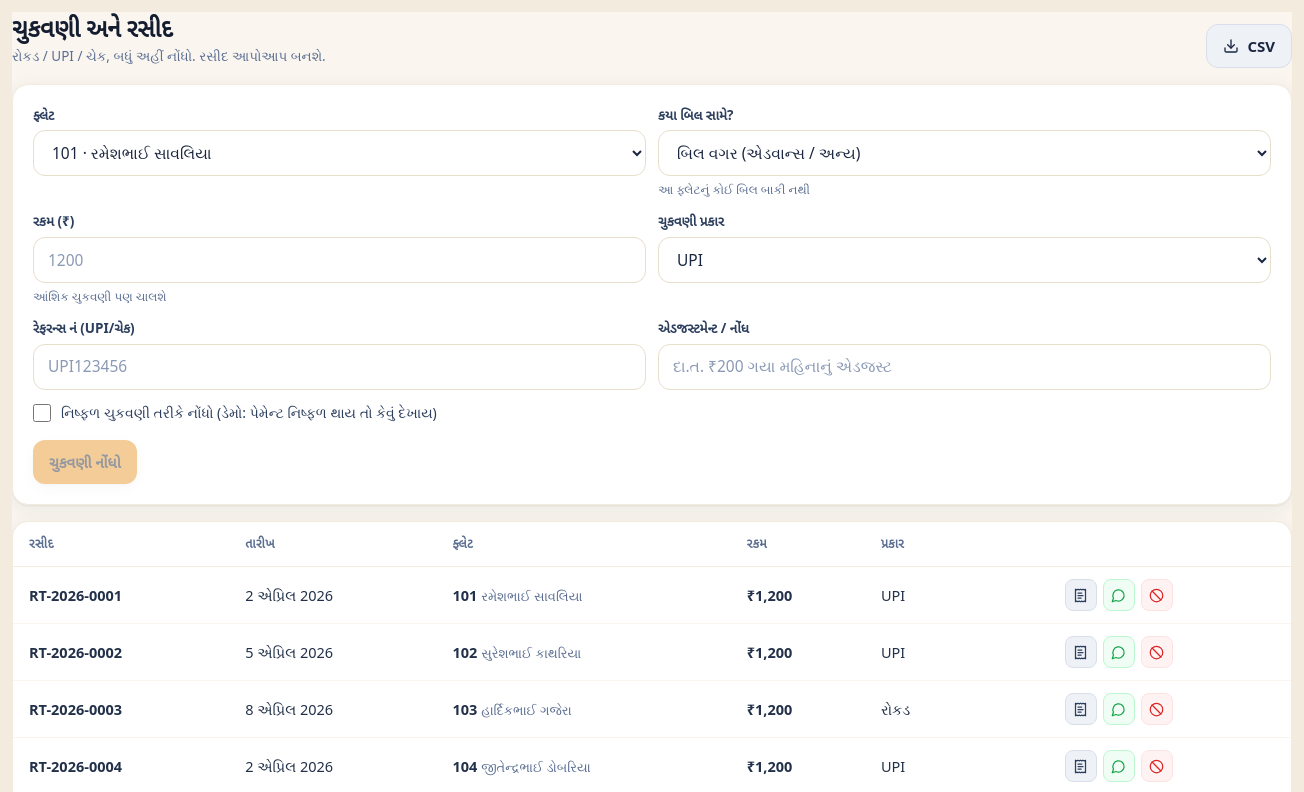
Test: failed-payment wording uses નિષ્ફળ, not the colloquial ફેલ › records a failed payment with the professional term while preserving the exact financial meaning
Step 1. Click the checkbox → point(42, 413), box [33,404,51,422]
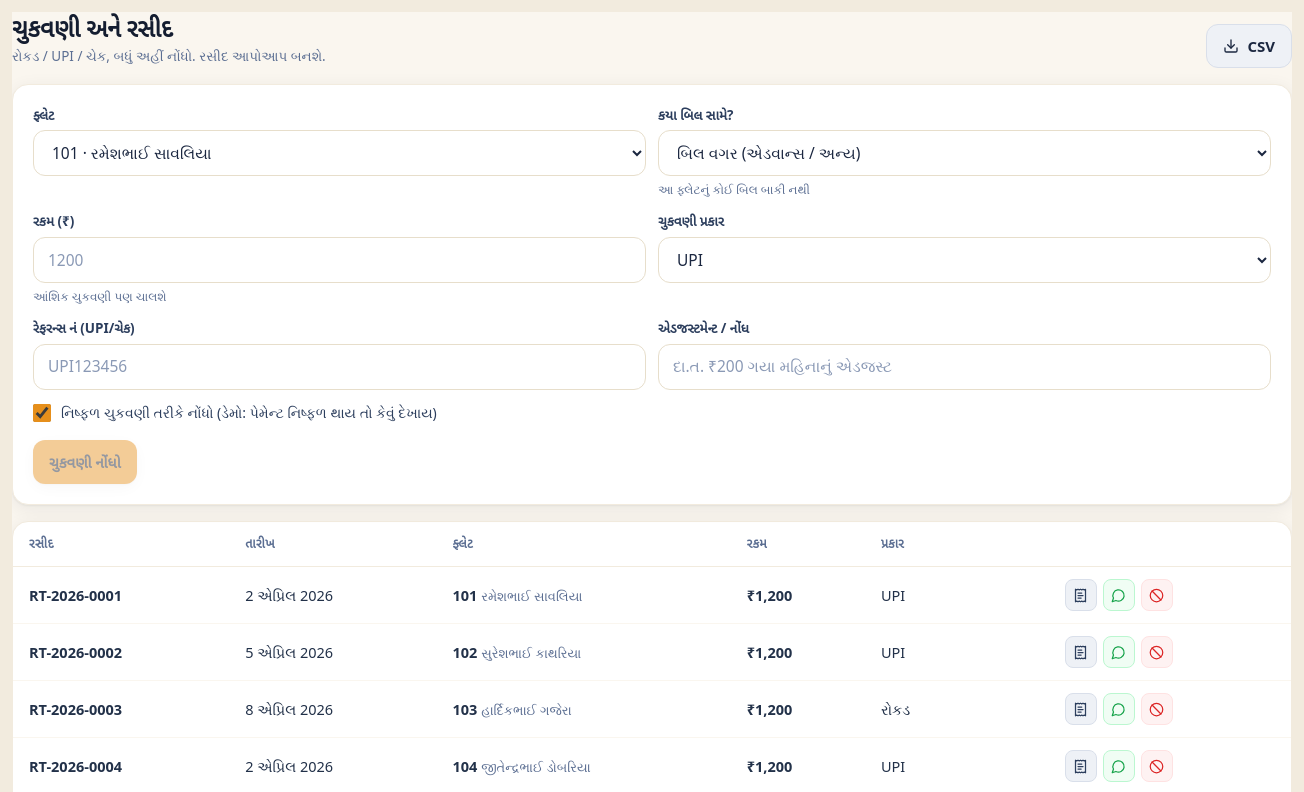
Step 2. Type "1500" into the number field with placeholder "1200" → point(340, 260), box [33,237,646,283]
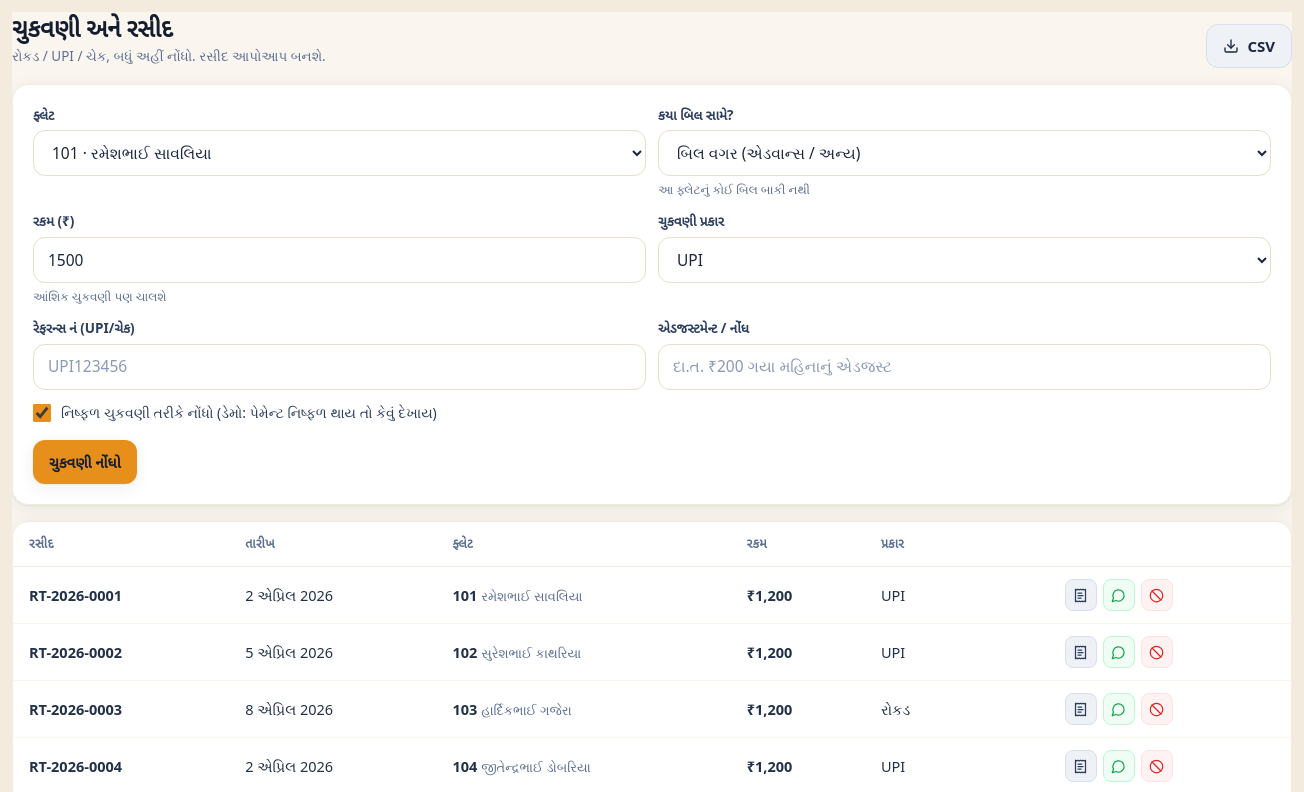
Step 3. Click the button "ચુકવણી નોંધો" → point(85, 462), box [33,440,137,484]
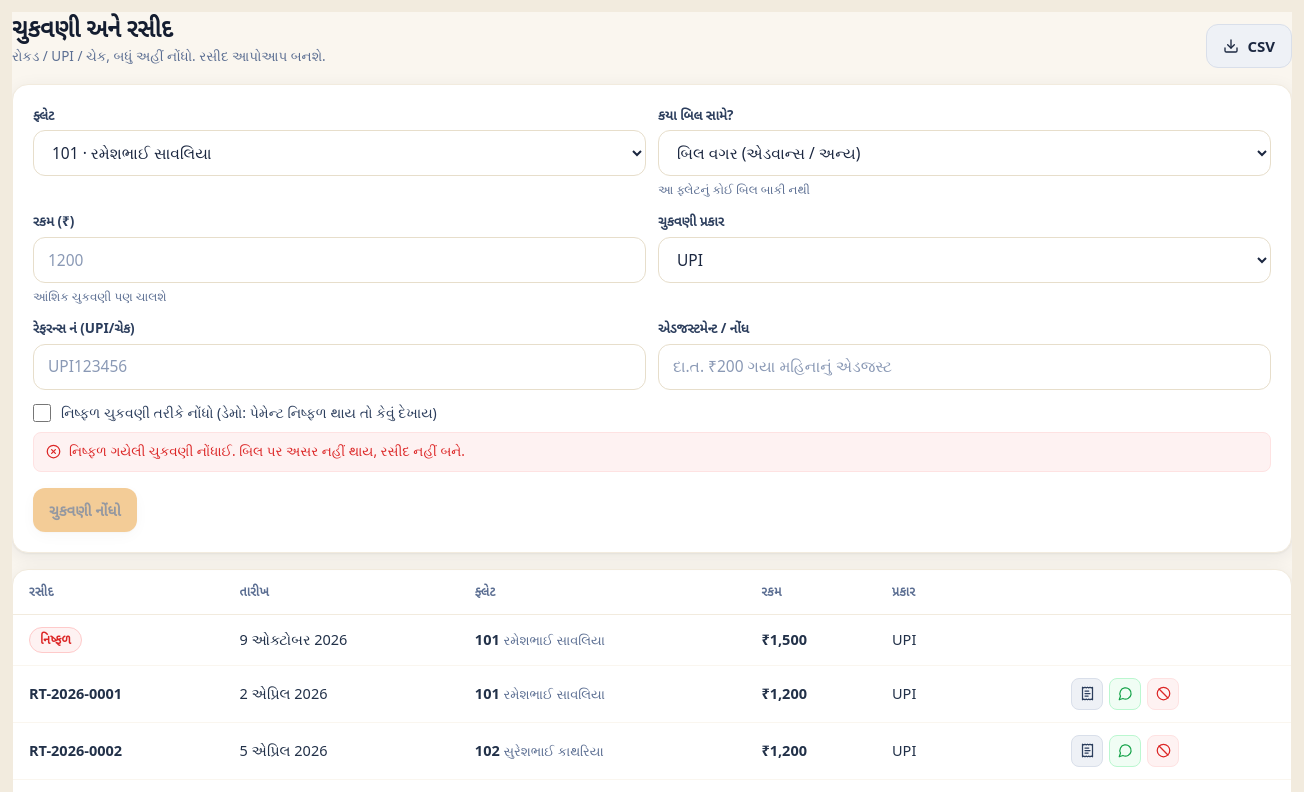
Check: the text "નિષ્ફળ ગયેલી ચુકવણી નોંધાઈ" shows "બિલ પર અસર નહીં થાય", box [69,442,465,460]
Check: the text "નિષ્ફળ ગયેલી ચુકવણી નોંધાઈ" shows "રસીદ નહીં બને", box [69,442,465,460]
